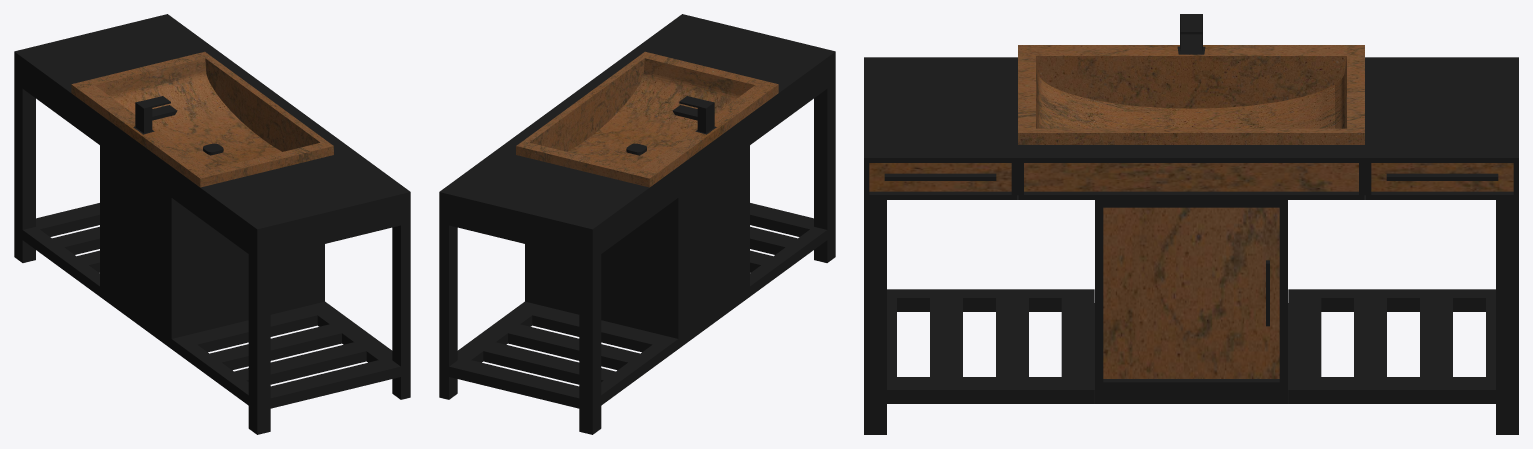
The model's file is silestoneSink.glb.
The picture shows the model from 3 angles, left to right: view 1: azimuth 30°, elevation 25°; view 2: azimuth 150°, elevation 25°; view 3: azimuth 270°, elevation 25°; orthographic projection. The views are drawn at different scales.
Parts seen in each view (by area): view 1: Cylinder; view 2: Cylinder; view 3: Cylinder.
Part boxes in pixels (<box>): Cylinder: <box>14,14,410,434</box>; Cylinder: <box>439,14,835,434</box>; Cylinder: <box>864,14,1518,434</box>.
Bounding box in the file's own units: 1.55 × 2.31 × 4.26.
Materials: 1 (1 with a texture image).
